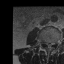CCS_normal: (48, 40, 50, 50)
LFS_normal: (52, 39, 55, 46)
LLS_normal: (50, 40, 52, 48)
RFS_stenosis: (43, 39, 46, 46)
RLS_normal: (46, 40, 48, 48)
